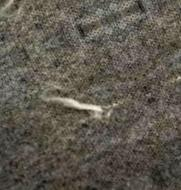snag: (38, 89, 116, 123)
